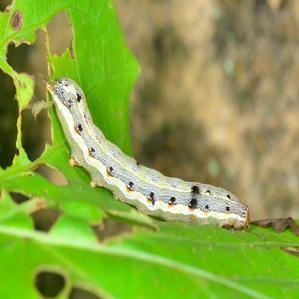Tobacco cutworm: (29, 64, 255, 258)
